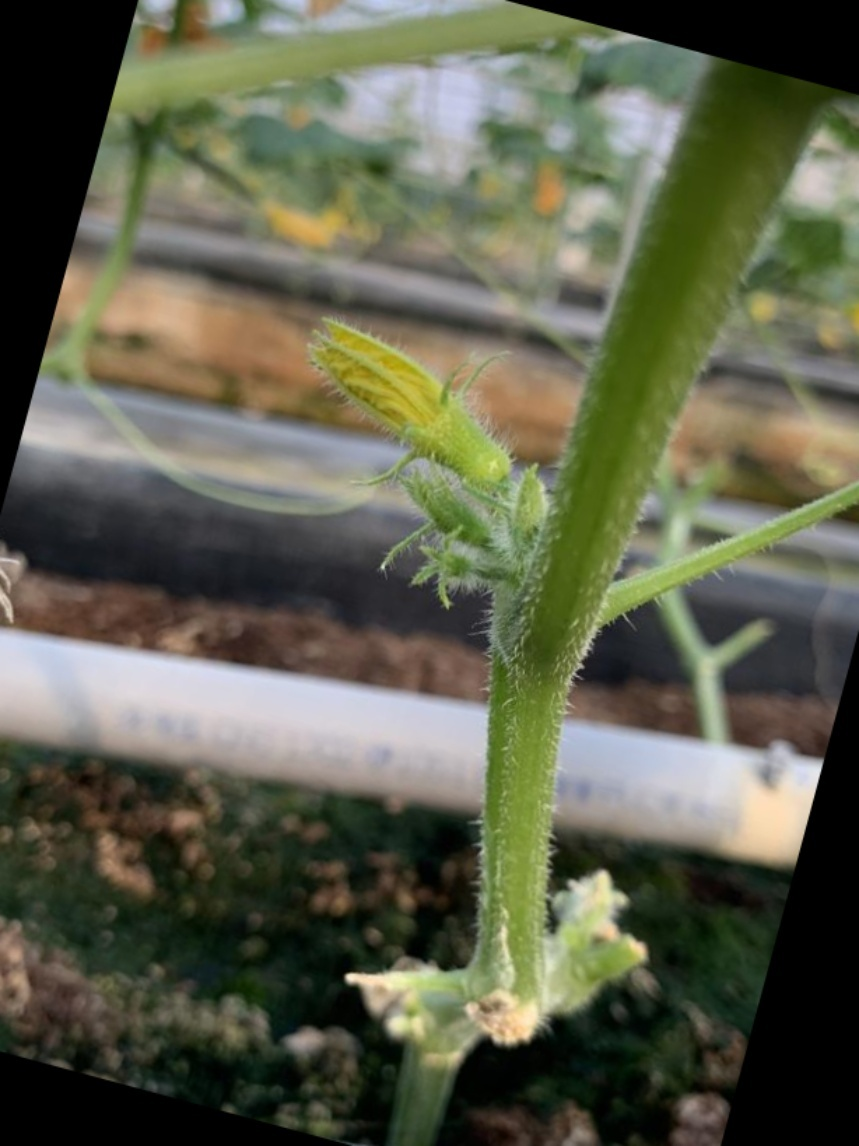bud: (296, 308, 517, 488)
